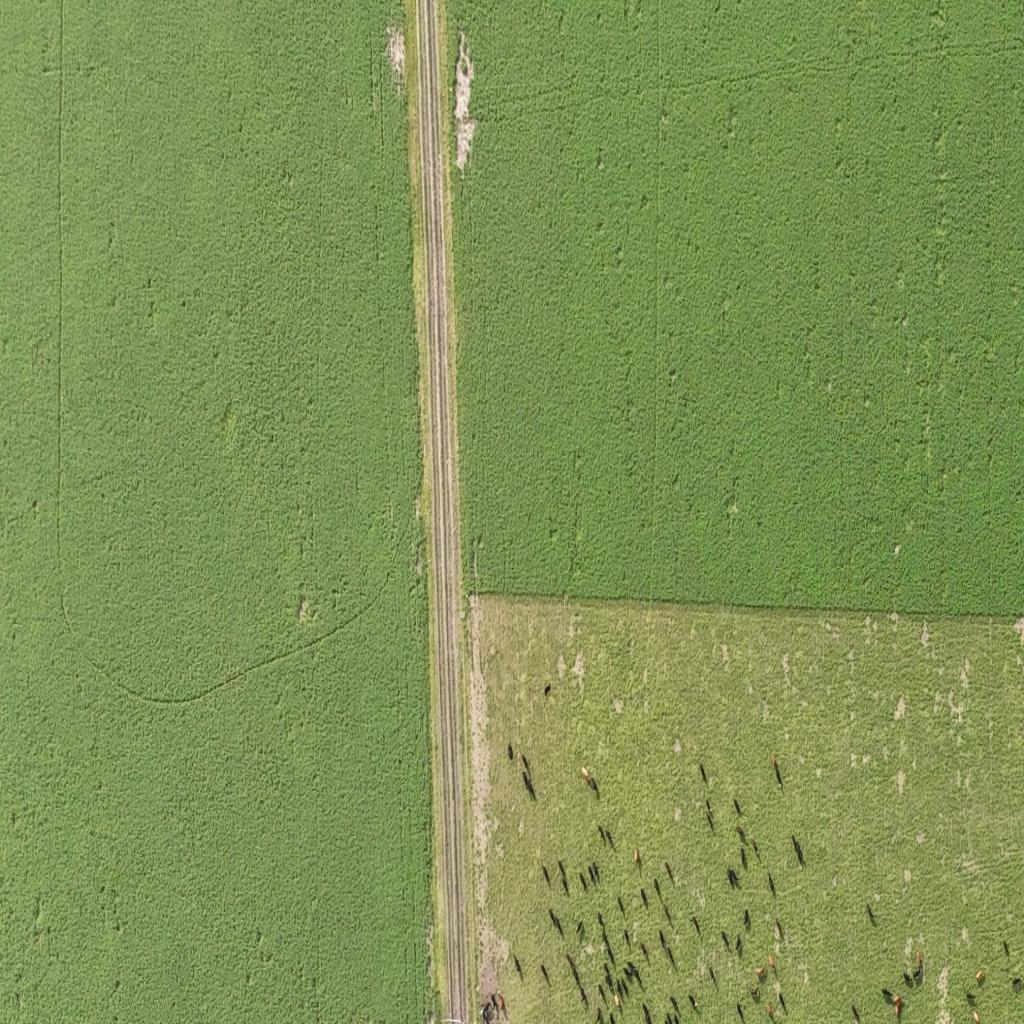cow: (566, 951, 585, 983), (522, 771, 536, 807), (601, 936, 615, 968), (496, 992, 510, 1024), (548, 908, 562, 937), (792, 834, 804, 866), (625, 954, 640, 979), (912, 951, 924, 981), (892, 994, 905, 1021), (772, 754, 782, 788), (480, 996, 492, 1022), (604, 964, 614, 995), (604, 826, 616, 851), (666, 942, 676, 971), (595, 823, 607, 847), (556, 856, 569, 878), (589, 862, 600, 888), (513, 953, 523, 981), (588, 774, 600, 797), (659, 929, 668, 959), (653, 877, 663, 904), (1010, 974, 1024, 993), (540, 962, 551, 986), (638, 939, 649, 963), (670, 995, 681, 1019), (727, 867, 739, 889), (619, 976, 631, 998), (692, 915, 702, 941), (632, 968, 646, 986), (749, 980, 760, 1002), (559, 875, 571, 894), (640, 886, 649, 911), (612, 992, 624, 1010), (733, 797, 743, 818), (766, 1001, 776, 1022), (615, 974, 623, 1000), (521, 752, 530, 775), (867, 903, 876, 926), (642, 1004, 652, 1024), (779, 990, 787, 1015), (665, 862, 674, 884), (751, 837, 760, 859), (542, 863, 550, 887), (768, 872, 776, 896), (735, 933, 743, 957), (709, 964, 717, 988), (775, 918, 783, 942), (688, 993, 698, 1012), (721, 931, 730, 952), (618, 894, 626, 917), (706, 810, 714, 833), (664, 904, 672, 927), (491, 991, 499, 1014), (736, 826, 746, 844), (704, 796, 714, 814), (740, 847, 748, 869), (700, 763, 708, 785), (576, 920, 584, 941), (598, 984, 606, 1005), (738, 1002, 746, 1023), (579, 872, 587, 892), (598, 910, 606, 930), (852, 1002, 860, 1022), (743, 908, 750, 930), (882, 985, 893, 999), (966, 991, 977, 1005), (903, 971, 914, 985), (579, 986, 587, 1004), (581, 766, 590, 782), (768, 954, 776, 972), (624, 928, 631, 948), (755, 964, 765, 977), (596, 1008, 604, 1024), (544, 683, 552, 699), (508, 742, 514, 762), (634, 848, 640, 868), (664, 1011, 674, 1023), (1003, 939, 1010, 956), (972, 1010, 980, 1024), (609, 1010, 616, 1024), (976, 970, 984, 982)
